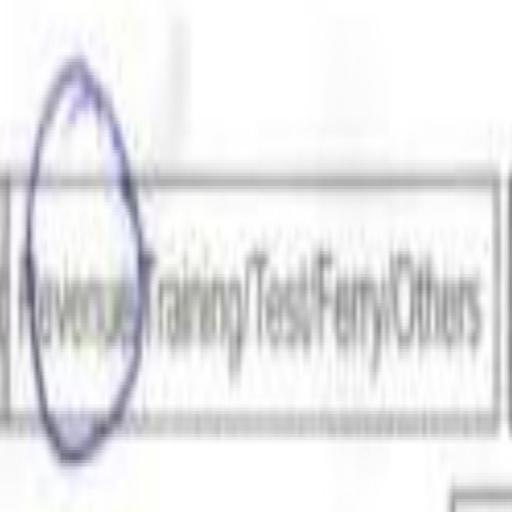check: (14, 75, 138, 490)
